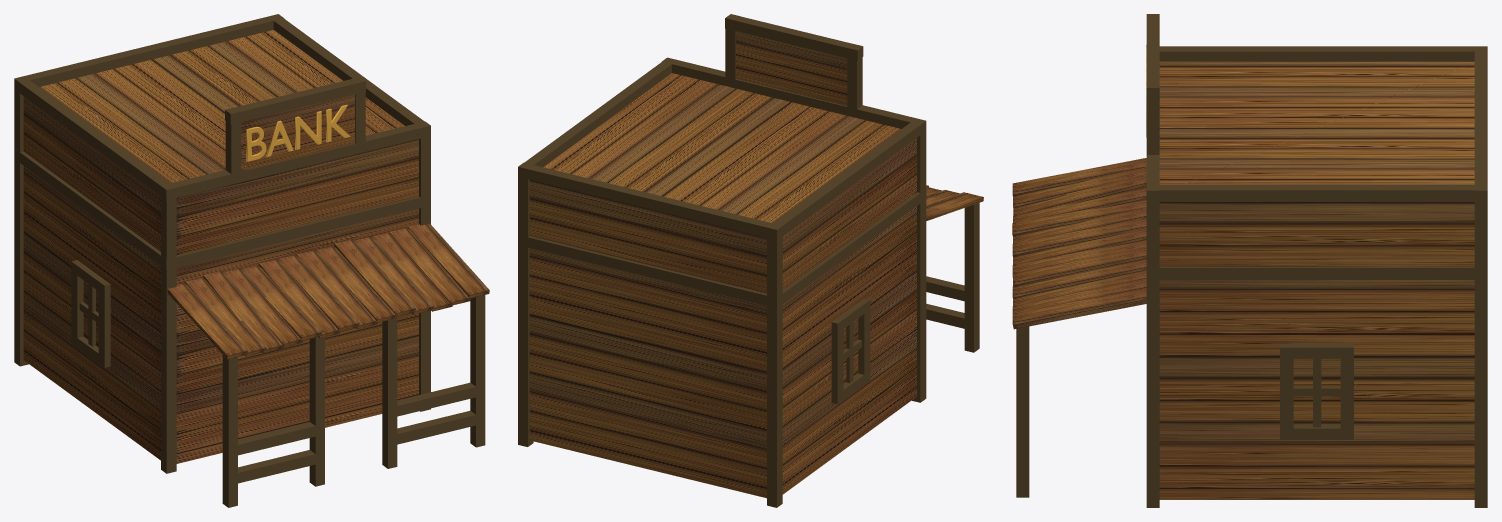
File: dum2.glb
The picture shows the model from 3 angles, left to right: view 1: azimuth 30°, elevation 25°; view 2: azimuth 150°, elevation 25°; view 3: azimuth 270°, elevation 25°; orthographic projection. The views are drawn at different scales.
Parts seen in each view (by area): view 1: Cube.001, Cube.016, Cube.007, Cube.020, Text; view 2: Cube.001, Cube.016, Cube.020, Cube.007; view 3: Cube.001, Cube.016, Cube.007.
Boxes of the visible parts, x1,y1,x2,y2 form: Cube.001: (23, 30, 418, 463); Cube.016: (14, 14, 485, 507); Cube.007: (167, 223, 489, 359); Cube.020: (241, 94, 354, 170); Text: (246, 104, 350, 161); Cube.001: (529, 73, 916, 498); Cube.016: (518, 14, 979, 507); Cube.020: (736, 31, 847, 105); Cube.007: (926, 185, 983, 220); Cube.001: (1159, 61, 1474, 499); Cube.016: (1016, 14, 1487, 507); Cube.007: (1012, 158, 1146, 329).
Size of the model in its own units: 6.13 by 7.45 by 8.34.
5 materials, 3 textured.
